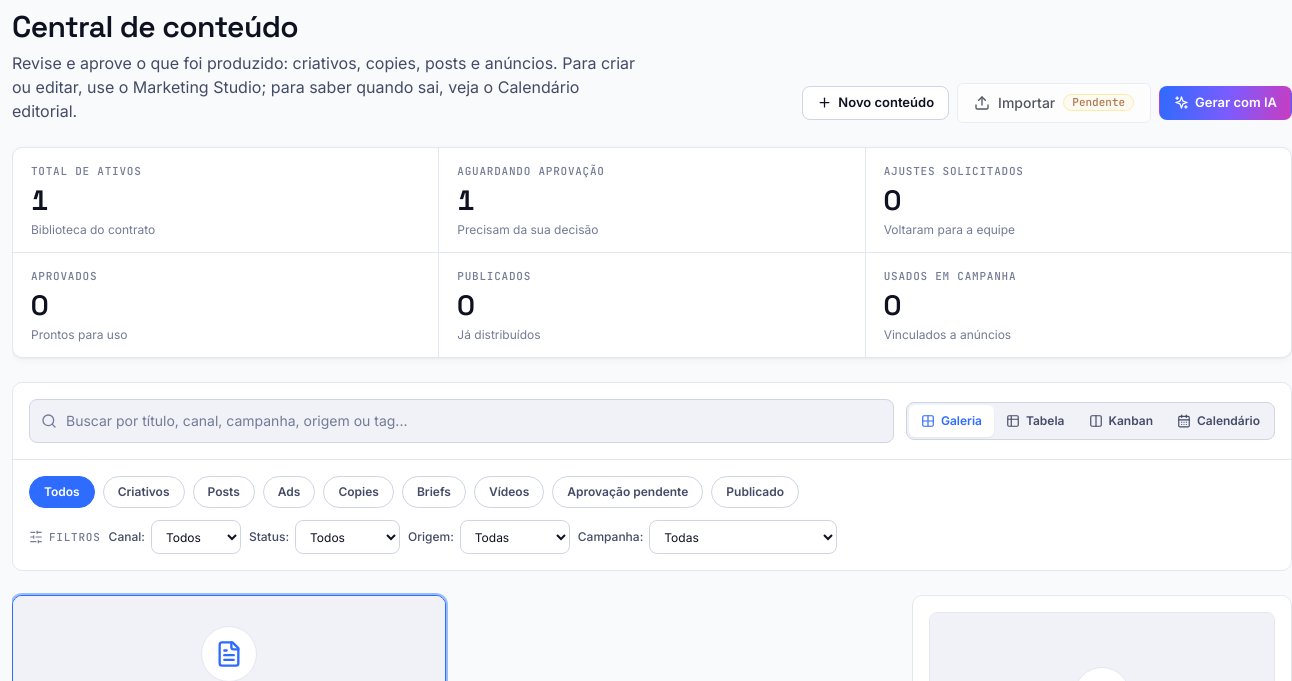
Test: PortalOrganicContentPage › a visão de calendário mostra só os próximos itens e leva ao calendário completo
Click the button "Calendário": {"x": 1218, "y": 421} [1165,405,1272,437]
(page scrolled)
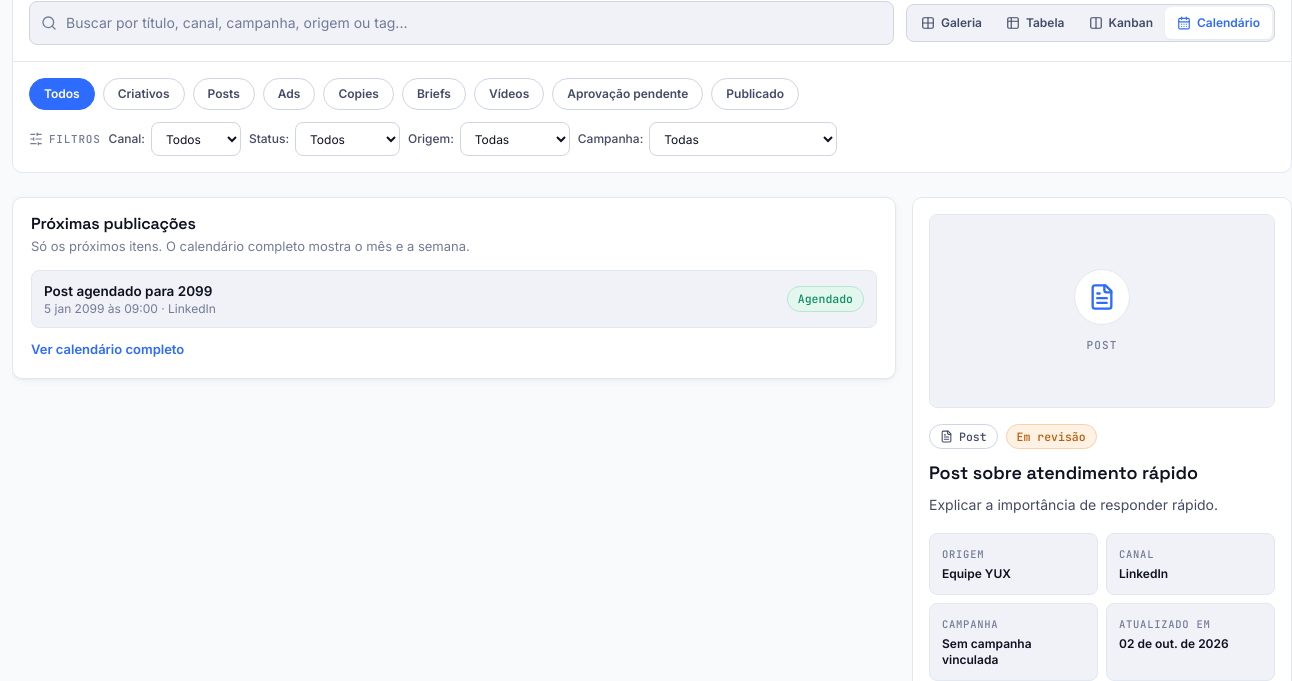
Expected: the text "Próximas publicações" is shown, [31,213,196,234]
Expected: the text "Post agendado para 2099" is shown, [44,281,216,301]
